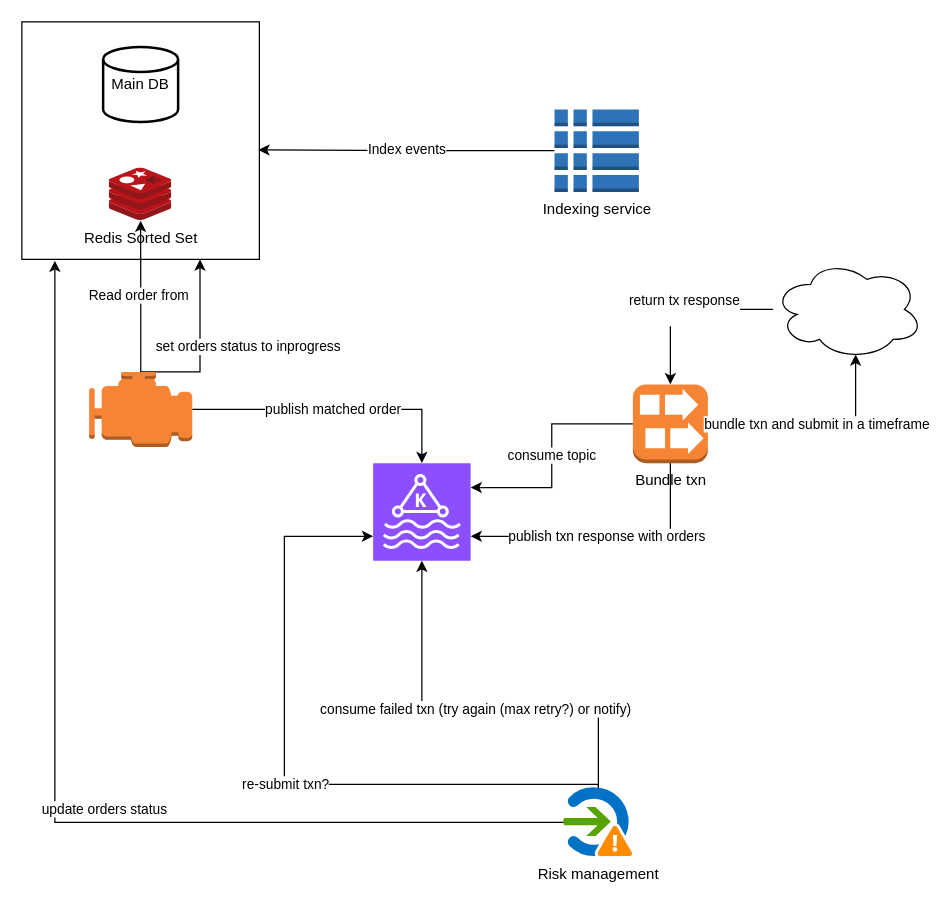
Some shapes in this 951 by 905 pixel diagram are drawn without their labels. Here are the shapes that lost their labels. From the top down, the centre of each, then its label:
point 847,308: Onchain
point 140,409: Matching engine
